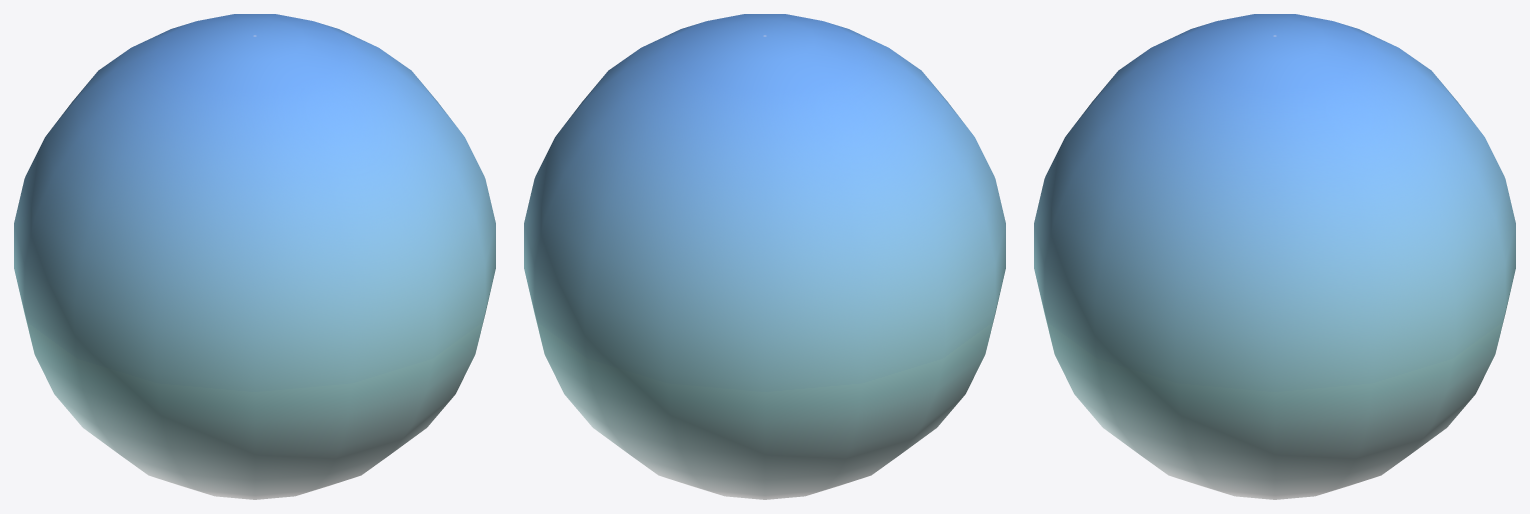
Rendered from SkyBox.fbx.
3 renders of one model, left to right at view 1: azimuth 30°, elevation 25°; view 2: azimuth 150°, elevation 25°; view 3: azimuth 270°, elevation 25°, orthographic.
Parts seen in each view (by area): view 1: SkyBox; view 2: SkyBox; view 3: SkyBox.
Part boxes in pixels (bbox=[...]): SkyBox: bbox=[14, 14, 495, 499]; SkyBox: bbox=[524, 14, 1005, 499]; SkyBox: bbox=[1034, 14, 1515, 499].
Size of the model in its own units: 4970 by 5053 by 4997.
Materials: 1 (1 with a texture image).
